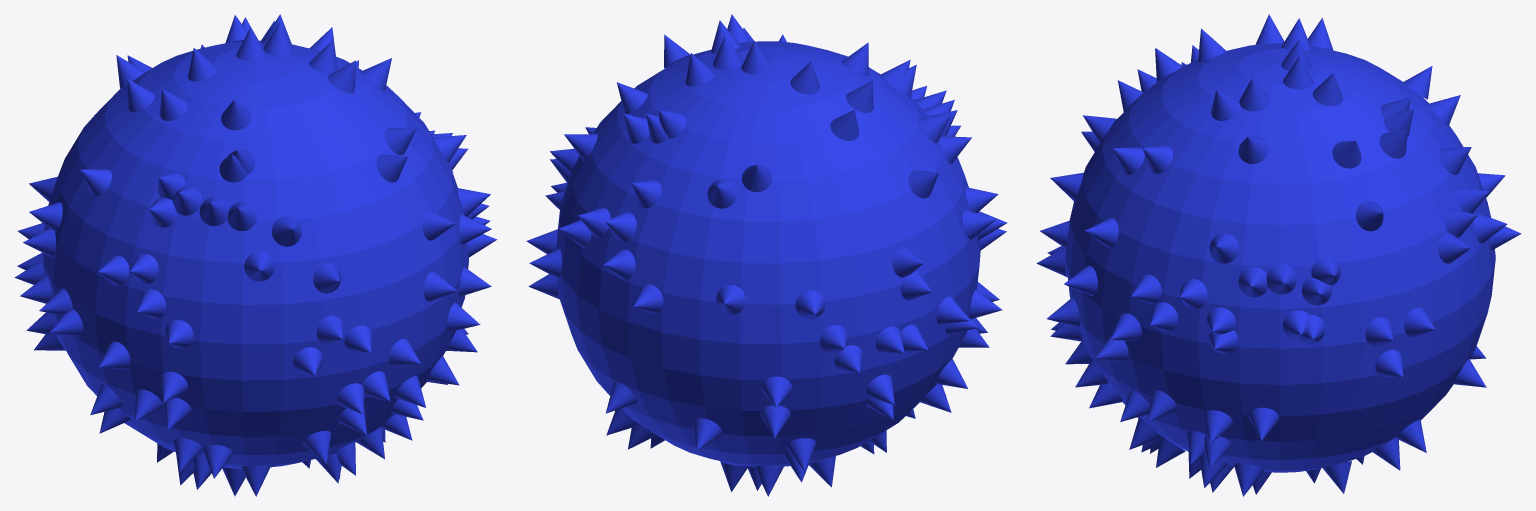
The model's file is spikey-sphere.gltf.
3 renders of one model, left to right at view 1: azimuth 30°, elevation 25°; view 2: azimuth 150°, elevation 25°; view 3: azimuth 270°, elevation 25°, orthographic.
Visible parts, largest first — view 1: Cube; view 2: Cube; view 3: Cube.
Part boxes in pixels (<box>): Cube: <box>14,14,497,496</box>; Cube: <box>526,14,1007,496</box>; Cube: <box>1036,14,1521,496</box>.
Bounding box in the file's own units: 3.16 × 3.17 × 3.16.
